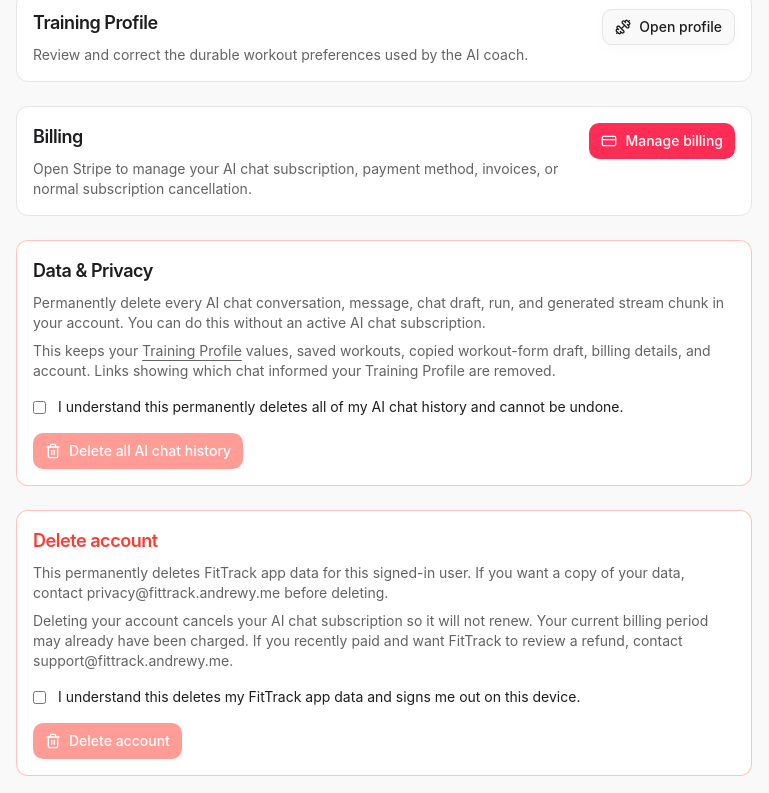
Test case: AccountSettingsPage › separates billing management from checkbox-confirmed account deletion
(page scrolled)
Expected: the element "Billing" is shown, [16,106,752,216]
Expected: the button "Manage billing" is enabled, [589,123,735,159]
Click the checkbox labelled "I understand this deletes my FitTrack app data" at (40, 698), box [33,691,46,704]
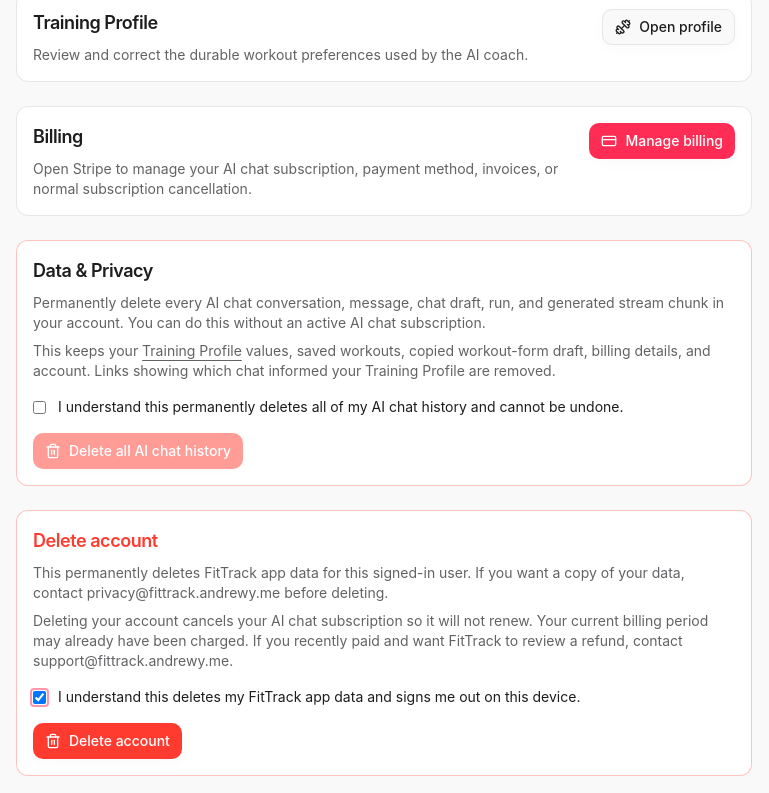
Now the button "Delete account" is enabled, box [33,723,182,759]
